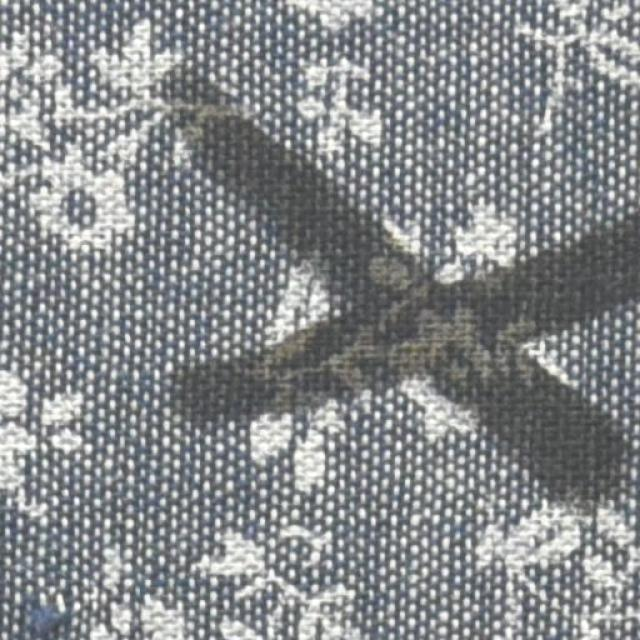Stain: (163, 71, 639, 504)
